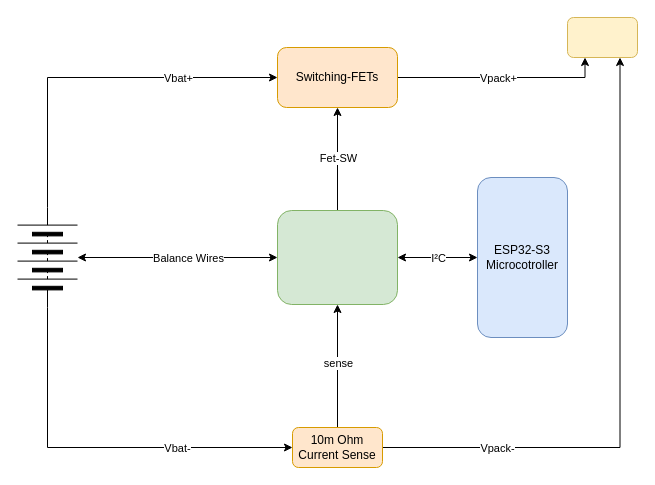
Some shapes in this 655 by 485 pixel diagram are drawn without their labels. The shapes that lost their labels are listed below. From the top down, each one's centre as x and y in pixels, then its label:
(602,37): XT60 Output
(337,257): BQ76942 Balancer
